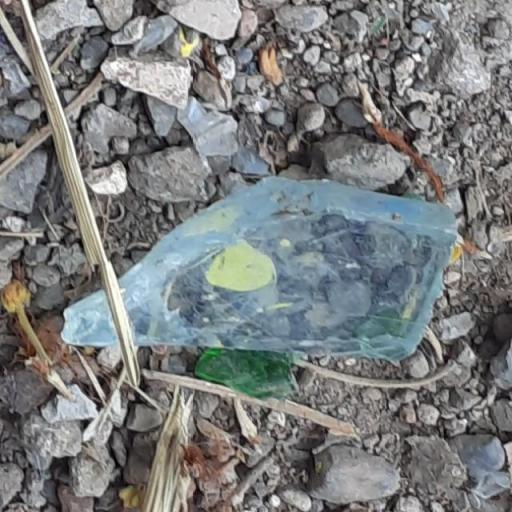glass: (42, 162, 467, 386)
